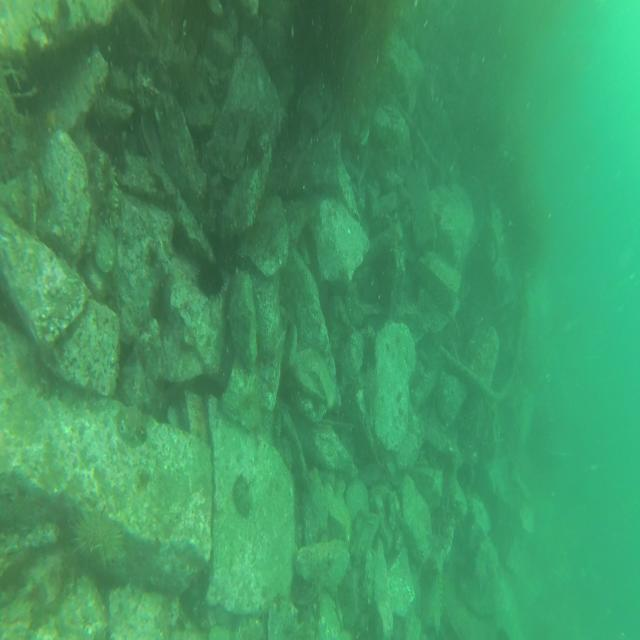echinus: (68, 509, 128, 575), (192, 257, 224, 299)
holothurian: (95, 154, 121, 233)
